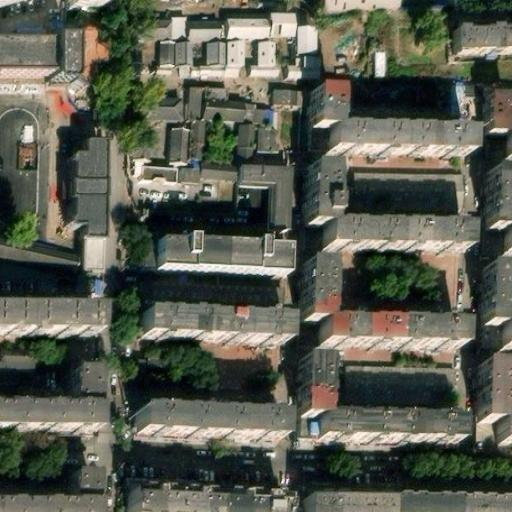building: (340, 169, 462, 219), (0, 94, 39, 235), (333, 367, 452, 408), (133, 408, 281, 440), (135, 313, 283, 344), (123, 281, 293, 307), (149, 234, 282, 267), (64, 136, 101, 246), (328, 130, 468, 159), (322, 224, 462, 253), (318, 319, 458, 348), (315, 416, 454, 443), (126, 489, 285, 512), (235, 160, 286, 226), (0, 310, 92, 341), (127, 477, 285, 492), (385, 495, 512, 512), (449, 26, 512, 56), (128, 86, 179, 122), (479, 264, 507, 326), (124, 10, 183, 39), (306, 163, 333, 224), (297, 357, 323, 416), (302, 494, 385, 512), (482, 170, 507, 229), (63, 358, 91, 410), (447, 83, 480, 127), (301, 262, 326, 319), (478, 364, 502, 423), (200, 85, 239, 121), (436, 254, 460, 312), (188, 39, 222, 75), (156, 38, 189, 74), (124, 38, 157, 73), (254, 125, 286, 161), (243, 40, 274, 76), (485, 90, 512, 131), (309, 92, 338, 130), (132, 163, 175, 184), (222, 20, 266, 40), (239, 101, 273, 125), (166, 127, 187, 164), (197, 164, 235, 184), (265, 13, 292, 41), (183, 21, 222, 40), (291, 30, 314, 60), (235, 125, 254, 160), (184, 84, 201, 120), (186, 120, 202, 158), (221, 40, 240, 67), (493, 423, 512, 448), (174, 164, 197, 184), (371, 49, 386, 78), (496, 325, 512, 352), (450, 0, 510, 7), (269, 87, 290, 106)
